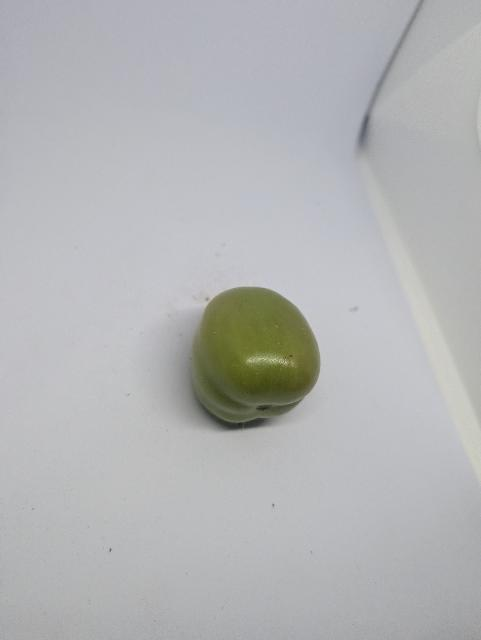green: (181, 276, 340, 449)
